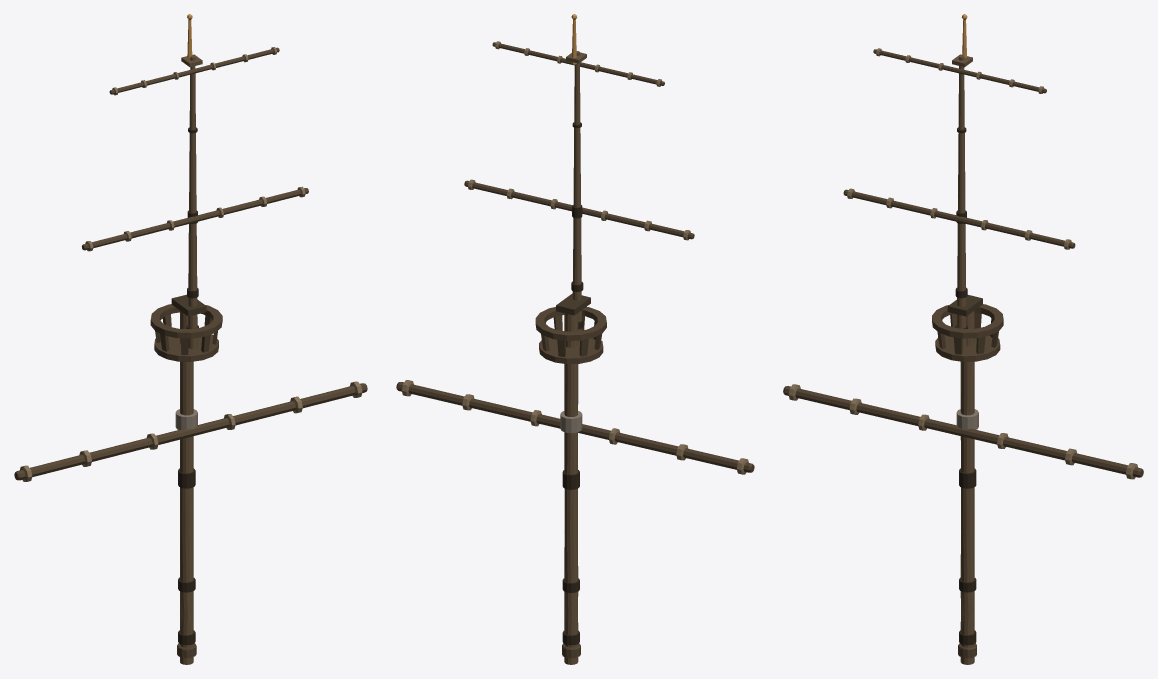
File: SM_Veh_Boat_Warship_01_Mast_02.glb
3 renders of one model, left to right at view 1: azimuth 30°, elevation 25°; view 2: azimuth 150°, elevation 25°; view 3: azimuth 330°, elevation 25°, orthographic.
Parts seen in each view (by area): view 1: SM_Veh_Boat_Warship_01_Mast_02; view 2: SM_Veh_Boat_Warship_01_Mast_02; view 3: SM_Veh_Boat_Warship_01_Mast_02.
Boxes of the visible parts, box(x1,y1,x2,y2) form: SM_Veh_Boat_Warship_01_Mast_02: box(14, 14, 367, 664); SM_Veh_Boat_Warship_01_Mast_02: box(396, 14, 754, 664); SM_Veh_Boat_Warship_01_Mast_02: box(783, 14, 1143, 664).
Bounding box in the file's own units: 0.1459 × 0.2568 × 0.0259.
Materials: 1 (1 with a texture image).
